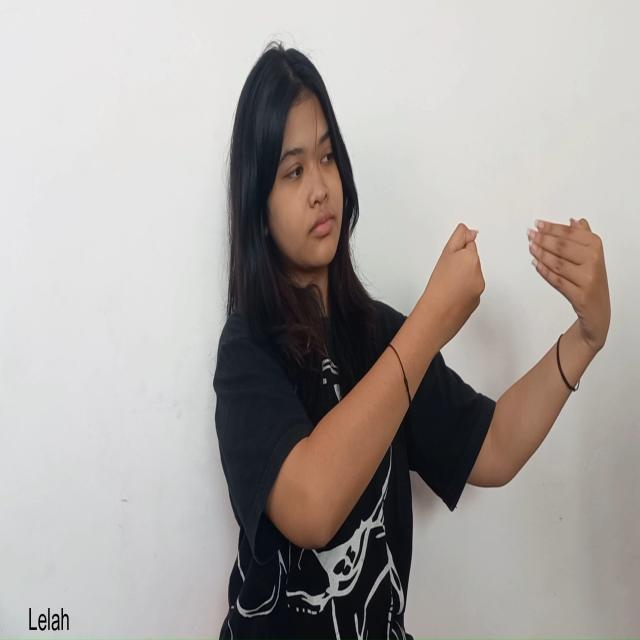Lelah -BISINDO-: (426, 215, 613, 360)
